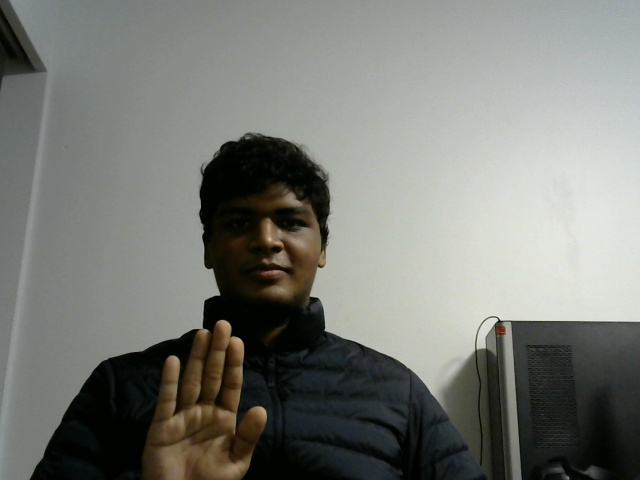Hi: (133, 319, 275, 480)
